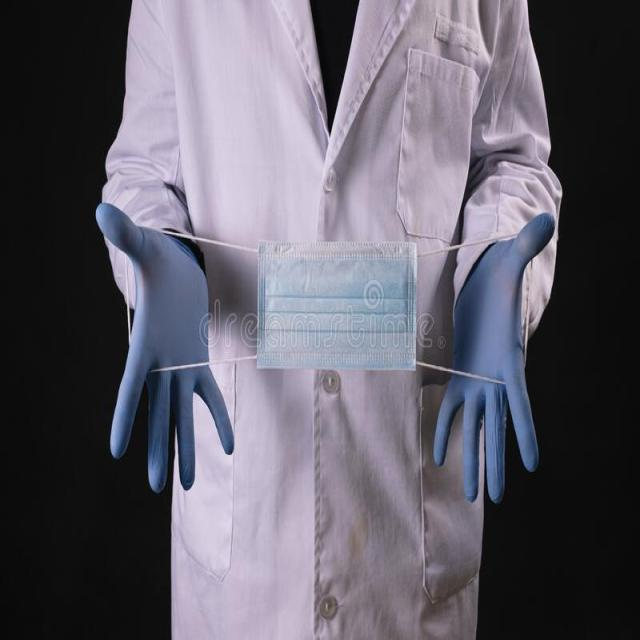Gloves: (89, 195, 235, 505), (436, 224, 564, 511)
Mask: (247, 225, 420, 405)
